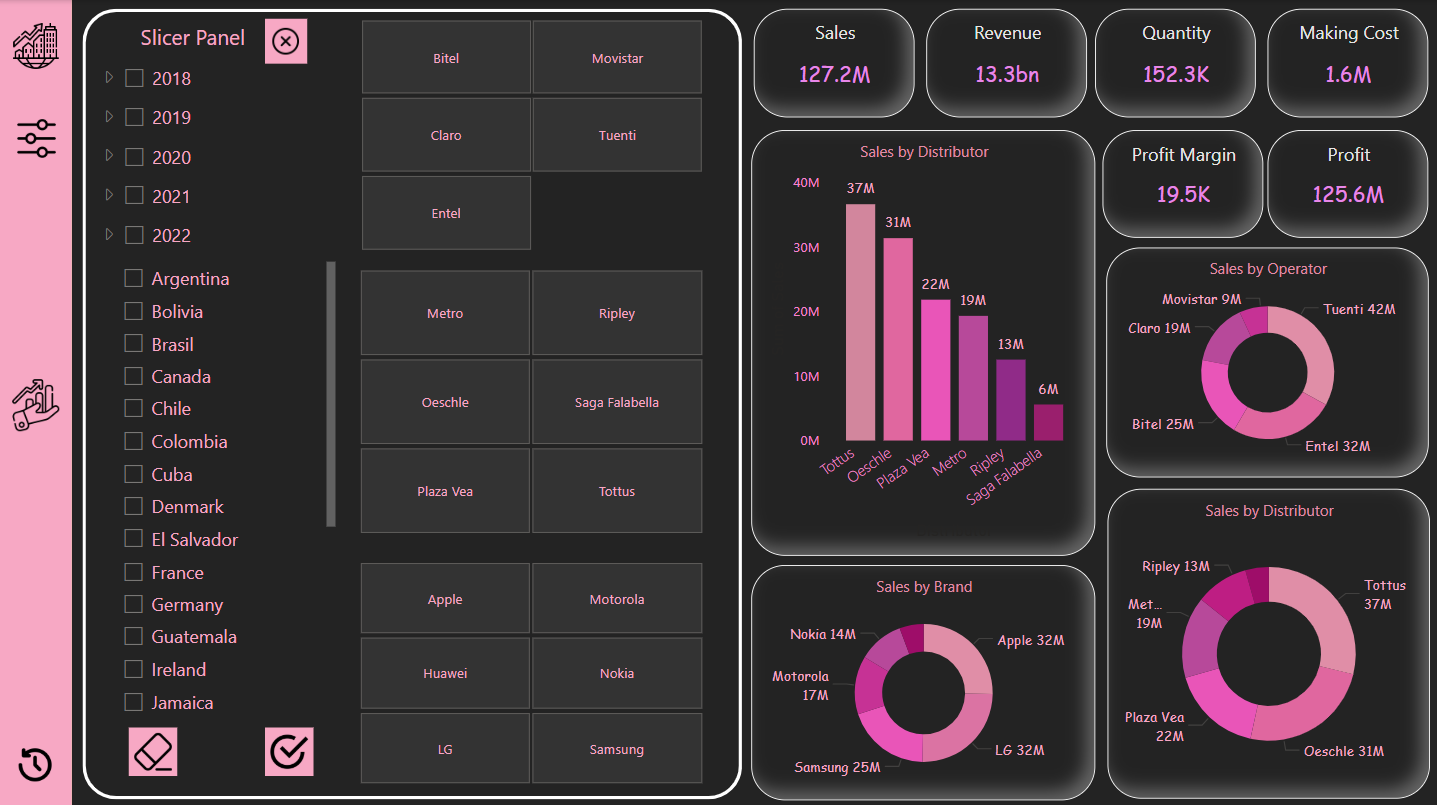

The page's visual inventory and layout, read from the dashboard file:
{"tool":"powerbi","page":{"name":"Sales","canvas":[1280,720],"ordinal":0},"visuals":[{"type":"shape","box":[0,0,63.8,720.2],"z":0},{"type":"stackedAreaChart","title":"Sales","fields":{"Category":["Phone Sales.Distributor"],"Y":["Sum(Phone Sales.Sales)"],"Series":["Phone Sales.Brand"]},"box":[71.2,379.1,585.3,333.7],"z":0,"group":"g1"},{"type":"stackedAreaChart","title":"Profit","fields":{"Category":["Phone Sales.Brand"],"Series":["Date_Phones.Month & Year.Variation.Date Hierarchy.Year"],"Y":["Sum(Phone Sales.Profit)"]},"box":[71.2,6.1,585.3,363.2],"z":1000,"group":"g1"},{"type":"image","box":[4.9,656.4,54,49.1],"z":1000},{"type":"image","box":[2.5,332.5,58.9,56.4],"z":2000},{"type":"image","box":[0,14.7,63.8,52.8],"z":3000},{"type":"donutChart","title":"Sales by Brand","fields":{"Category":["Phone Sales.Brand"],"Y":["Sum(Phone Sales.Sales)"]},"box":[668.7,503.1,306.8,209.8],"z":4000},{"type":"donutChart","title":"Sales by Distributor","fields":{"Category":["Phone Sales.Distributor"],"Y":["Sum(Phone Sales.Sales)"]},"box":[986.5,435.6,287.1,276.1],"z":5000},{"type":"donutChart","title":"Sales by Operator","fields":{"Category":["Phone Sales.Operator"],"Y":["Sum(Phone Sales.Sales)"]},"box":[985.3,220.9,287.1,204.9],"z":6000},{"type":"image","box":[3.7,101.8,58.9,44.2],"z":7000},{"type":"columnChart","title":"Sales by Distributor","fields":{"Category":["Phone Sales.Distributor"],"Y":["Sum(Phone Sales.Sales)"]},"box":[668.7,115.3,306.8,379.1],"z":8000},{"type":"card","title":"Sales","fields":{"Values":["Sum(Phone Sales.Sales)"]},"box":[671.2,7.4,143.6,96.9],"z":9000},{"type":"card","title":"Revenue","fields":{"Values":["Sum(Phone Sales.Revenue)"]},"box":[824.5,7.4,143.6,96.9],"z":10000},{"type":"card","title":"Quantity","fields":{"Values":["Sum(Phone Sales.Quantity)"]},"box":[975.5,7.4,143.6,96.9],"z":11000},{"type":"card","title":"Profit","fields":{"Values":["Sum(Phone Sales.Profit)"]},"box":[1128.8,115.3,143.6,95.7],"z":12000},{"type":"card","title":"Making Cost","fields":{"Values":["Sum(Phone Sales.Manufacturing Cost)"]},"box":[1128.8,7.4,143.6,96.9],"z":13000},{"type":"card","title":"Profit Margin","fields":{"Values":["Sum(Phone Sales.Profit Margin)"]},"box":[981.6,115.3,143.6,95.7],"z":14000},{"type":"group","id":"g1","title":"Visuals","box":[71.2,6.1,585.3,706.8],"z":16000}]}

Visuals, with their boxes in screenshot pixels (x1, y1, x2, y2):
shape: BBox(7, 4, 78, 797)
"Sales" stackedAreaChart: BBox(86, 422, 731, 789)
"Profit" stackedAreaChart: BBox(86, 10, 731, 411)
image: BBox(13, 727, 72, 781)
image: BBox(10, 370, 75, 432)
image: BBox(7, 20, 78, 78)
"Sales by Brand" donutChart: BBox(744, 558, 1082, 789)
"Sales by Distributor" donutChart: BBox(1095, 484, 1411, 788)
"Sales by Operator" donutChart: BBox(1093, 247, 1410, 473)
image: BBox(12, 116, 76, 165)
"Sales by Distributor" columnChart: BBox(744, 131, 1082, 549)
"Sales" card: BBox(747, 12, 905, 119)
"Revenue" card: BBox(916, 12, 1074, 119)
"Quantity" card: BBox(1082, 12, 1241, 119)
"Profit" card: BBox(1251, 131, 1410, 236)
"Making Cost" card: BBox(1251, 12, 1410, 119)
"Profit Margin" card: BBox(1089, 131, 1247, 236)
"Visuals" group: BBox(86, 10, 731, 789)
